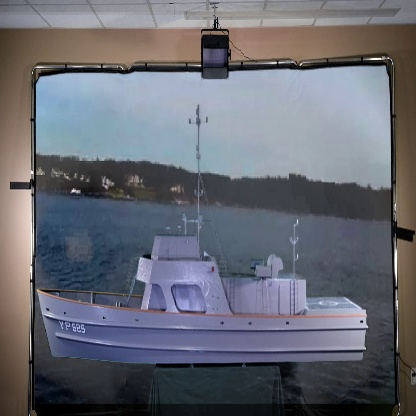YP689: (37, 103, 372, 368)
